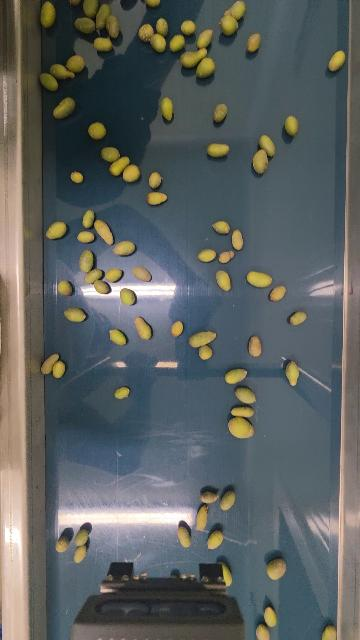Baby Potato: (227, 415, 256, 440), (178, 47, 209, 69), (52, 96, 76, 121), (133, 313, 154, 341), (94, 219, 114, 246), (246, 269, 273, 289), (49, 62, 77, 81), (39, 1, 58, 29), (266, 557, 288, 581), (188, 330, 217, 348), (195, 56, 216, 80), (95, 1, 112, 30), (109, 155, 130, 177), (219, 13, 239, 36), (45, 220, 68, 240), (224, 367, 248, 386), (235, 385, 257, 405), (40, 352, 59, 375), (112, 239, 136, 257), (259, 133, 277, 157), (252, 149, 269, 174), (226, 0, 247, 20), (195, 504, 210, 532), (39, 72, 60, 92), (73, 16, 96, 34), (327, 49, 345, 72), (206, 141, 230, 158), (285, 360, 300, 387), (230, 404, 257, 419), (66, 53, 86, 73), (78, 248, 95, 271), (248, 333, 263, 359), (105, 14, 121, 38), (196, 28, 214, 49), (263, 605, 279, 628), (216, 269, 232, 292), (64, 307, 87, 323), (88, 121, 107, 140), (168, 33, 186, 53), (177, 524, 192, 548), (131, 265, 152, 282), (246, 31, 262, 53), (220, 490, 236, 512), (160, 96, 174, 121), (109, 328, 128, 346), (123, 164, 141, 183), (82, 0, 101, 18), (207, 530, 224, 550), (150, 33, 167, 53), (213, 102, 229, 122), (94, 36, 114, 52), (284, 115, 299, 136), (220, 562, 233, 586), (146, 191, 168, 205), (269, 284, 286, 302), (120, 287, 136, 306), (101, 146, 120, 162), (84, 267, 103, 283), (74, 527, 89, 547), (180, 19, 197, 36), (138, 23, 154, 41), (289, 310, 307, 326), (255, 622, 271, 640), (231, 228, 244, 250), (52, 359, 66, 379), (57, 279, 73, 296), (321, 624, 338, 640), (198, 248, 216, 263), (104, 268, 123, 282), (73, 545, 87, 564), (82, 209, 95, 229), (200, 491, 220, 504), (113, 385, 130, 400), (77, 230, 95, 244), (213, 220, 231, 234), (55, 535, 69, 553), (148, 171, 162, 189), (156, 17, 169, 36), (94, 279, 110, 294), (198, 344, 214, 359), (219, 249, 234, 264), (171, 320, 184, 337), (70, 171, 84, 184), (143, 0, 162, 8), (66, 0, 82, 6)
